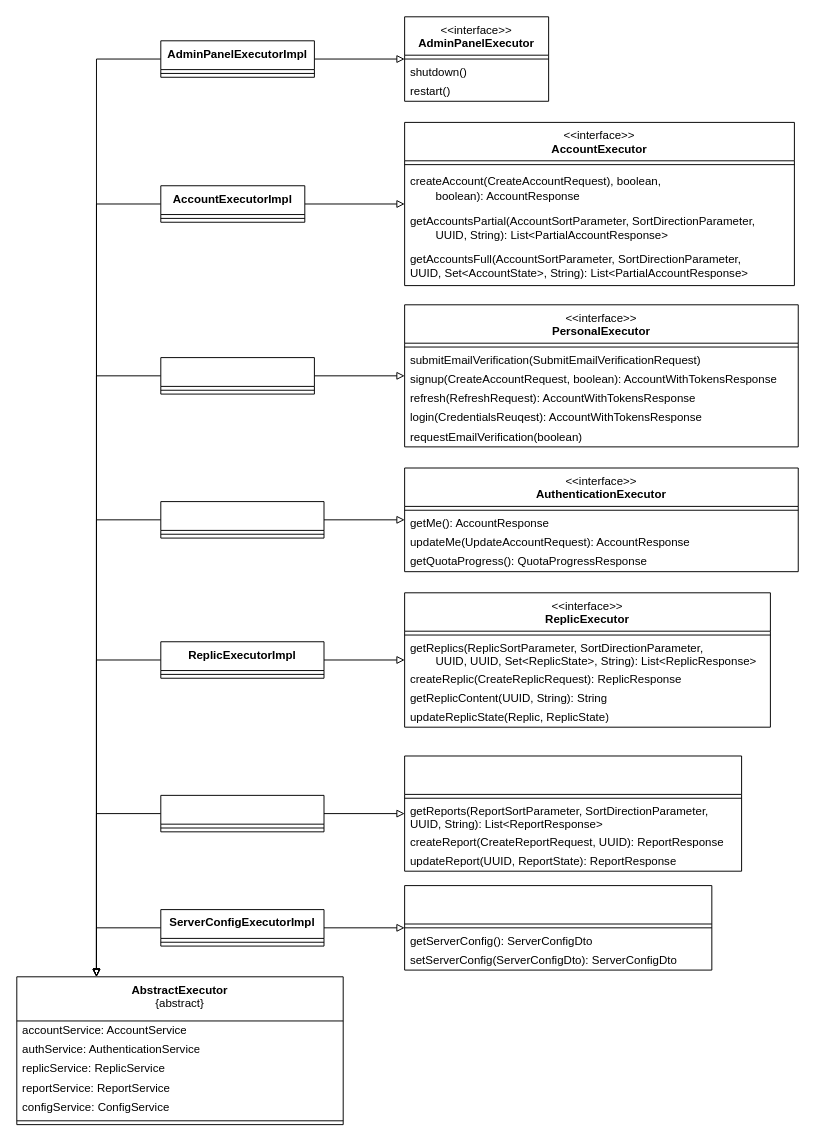
Image size: 815x1141. Some labels were removed from this diagram. Here are the shapes that lost their labels. From the top down, the box of each, then its label:
(160, 357, 314, 394): PersonalExecutorImpl
(160, 501, 324, 538): AuthenticationExecutorImpl
(160, 794, 324, 832): ReportExecutorImpl
(404, 755, 742, 871): <<interface>> ReportExecutor
(404, 885, 712, 970): <<interface>> ServerConfigExecutor
